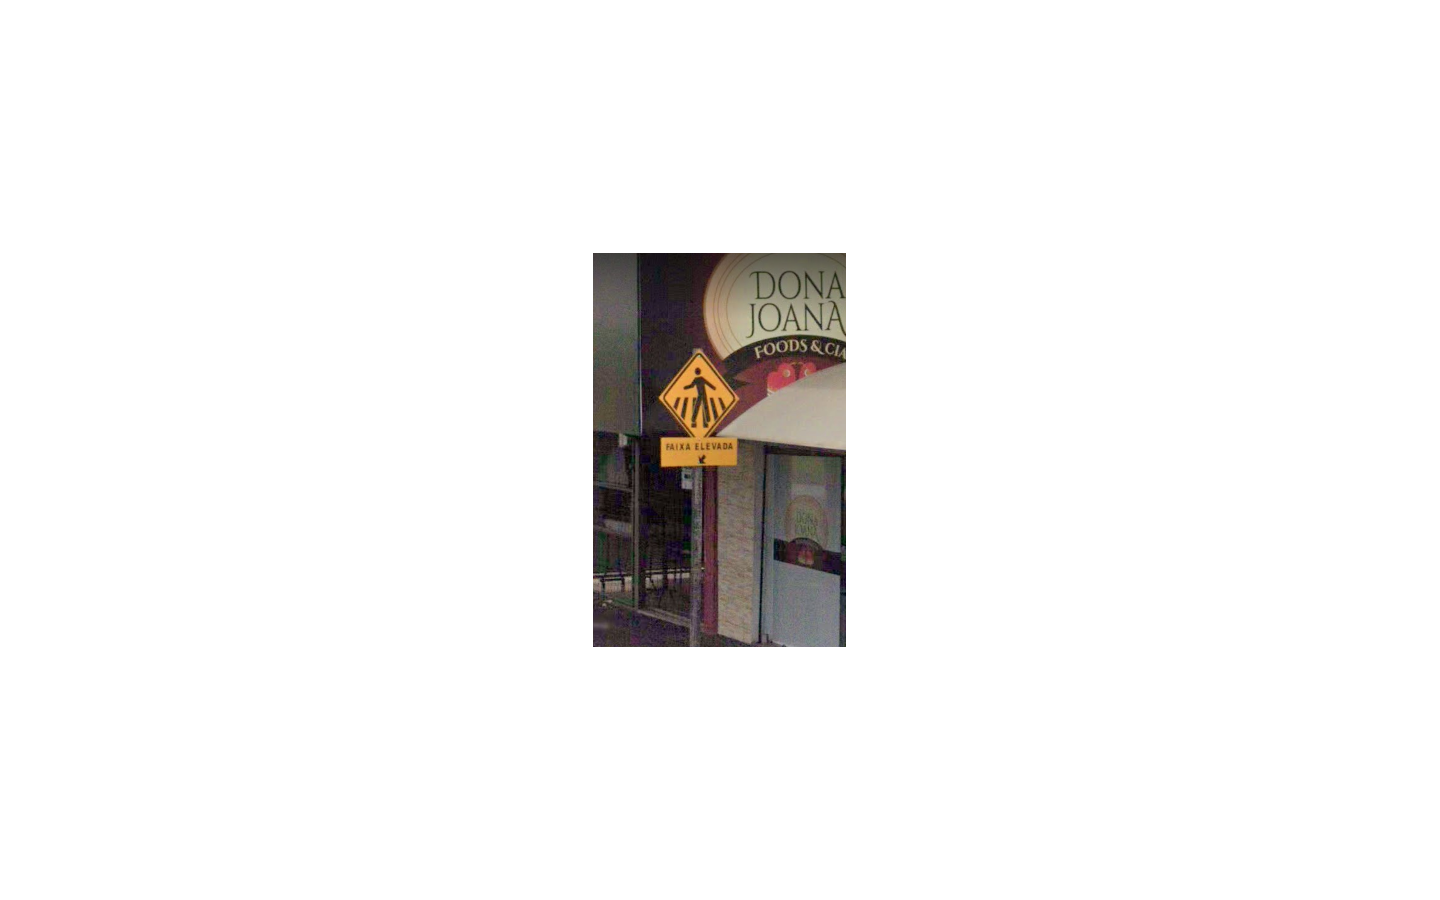telev: (659, 349, 740, 467)
